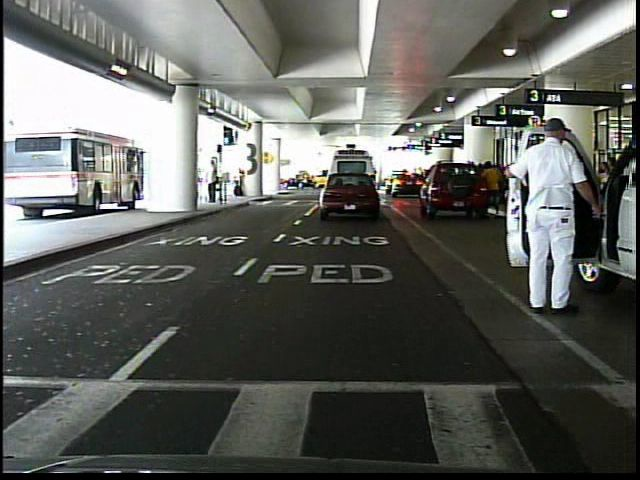person: (503, 111, 597, 317), (560, 149, 591, 227), (483, 157, 503, 217), (205, 155, 221, 206), (232, 163, 248, 199)
